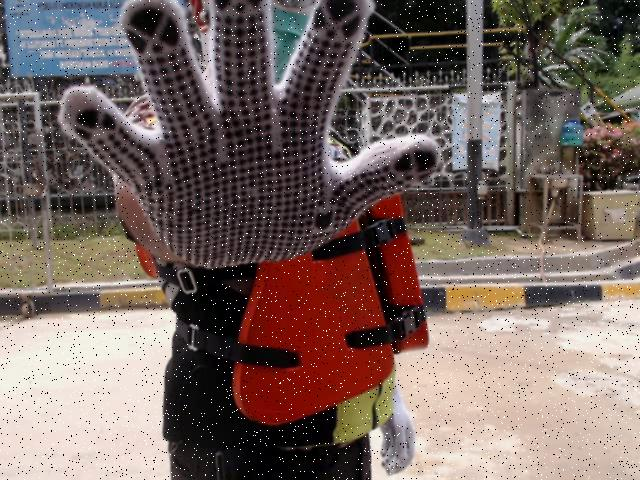gloves: (47, 0, 448, 269), (367, 381, 426, 478)
vest: (230, 186, 448, 424)
